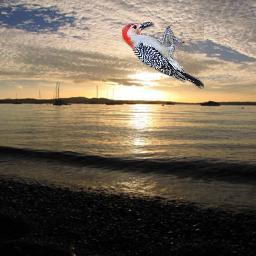Woodpecker: (122, 22, 204, 89)
